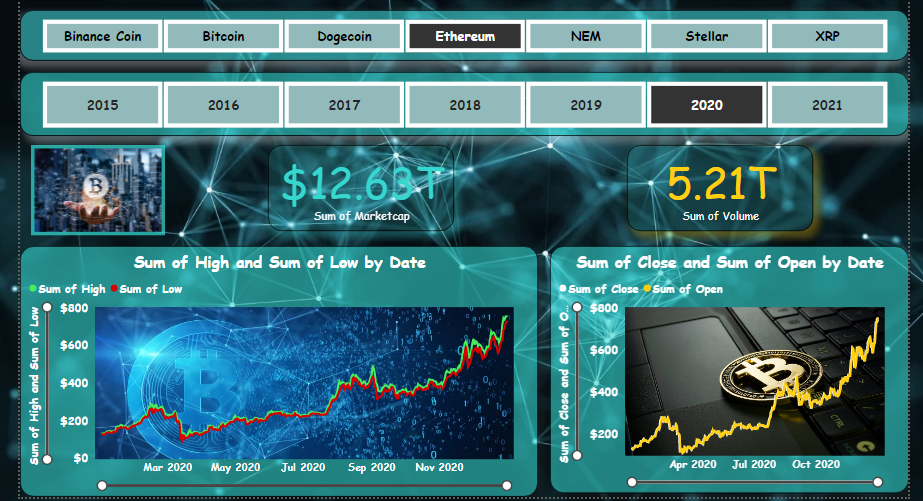

What the dashboard file says about the page in this screenshot:
{"tool":"powerbi","page":{"name":"page2","canvas":[1280,720],"ordinal":0},"visuals":[{"type":"slicer","fields":{"Values":["cryptocurrency.Name"]},"box":[0,18.7,1280.2,73.4],"z":0},{"type":"slicer","fields":{"Values":["cryptocurrency.year"]},"box":[0,108,1280.2,92.2],"z":1000},{"type":"lineChart","fields":{"Y":["Sum(cryptocurrency.High)","Sum(cryptocurrency.Low)"],"Category":["cryptocurrency.Date"]},"box":[0,358.6,745.9,361.4],"z":2000},{"type":"image","box":[15.8,213.1,193,129.6],"z":2001},{"type":"card","fields":{"Values":["Sum(cryptocurrency.Marketcap)"]},"box":[239,213.1,267.8,123.8],"z":2002},{"type":"card","fields":{"Values":["Sum(cryptocurrency.Volume)"]},"box":[534.2,213.1,267.8,123.8],"z":2003},{"type":"lineChart","fields":{"Category":["cryptocurrency.Date"],"Y":["Sum(cryptocurrency.Close)","Sum(cryptocurrency.Open)"]},"box":[763.2,358.6,517,355.7],"z":2004}]}

Visuals, with their boxes on the page's 1280x720 design canvas (x1, y1, x2, y2). These are canvas units, not pixel positions in the 923x501 screenshot, which may show the page scaled, cropped or inside an application window:
slicer - cryptocurrency.Name: Rect(0, 19, 1280, 92)
slicer - cryptocurrency.year: Rect(0, 108, 1280, 200)
lineChart - Sum(cryptocurrency.High) x Sum(cryptocurrency.Low): Rect(0, 359, 746, 720)
image: Rect(16, 213, 209, 343)
card - Sum(cryptocurrency.Marketcap): Rect(239, 213, 507, 337)
card - Sum(cryptocurrency.Volume): Rect(534, 213, 802, 337)
lineChart - cryptocurrency.Date x Sum(cryptocurrency.Close): Rect(763, 359, 1280, 714)
